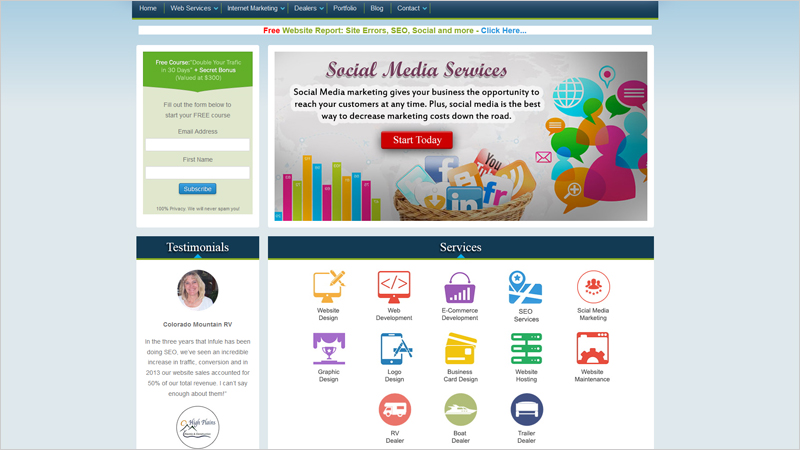Menu Bar: (133, 0, 430, 19)
Side Bar: (135, 236, 262, 450), (135, 48, 261, 225)
